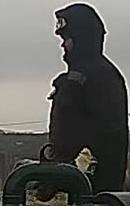helmet: (54, 13, 73, 39)
vest: (46, 59, 128, 192)
